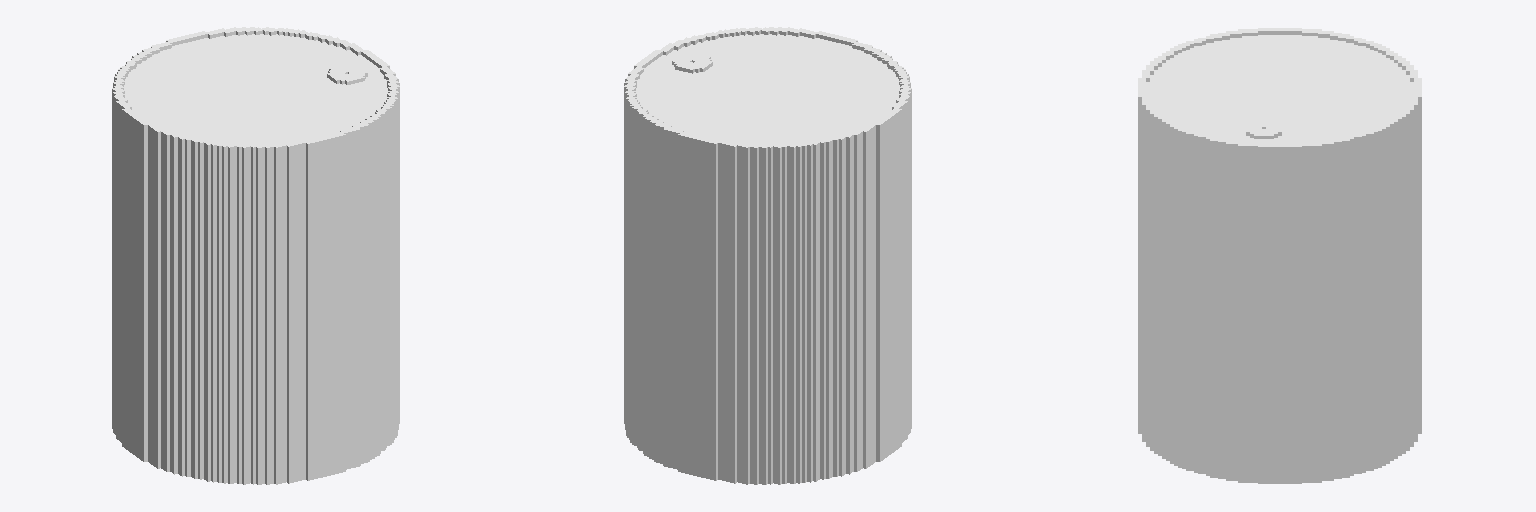
File: tanque.obj
3 renders of one model, left to right at view 1: azimuth 30°, elevation 25°; view 2: azimuth 150°, elevation 25°; view 3: azimuth 270°, elevation 25°, orthographic.
Visible parts, largest first — view 1: object 1; view 2: object 1; view 3: object 1.
Part boxes in pixels (x1,y1,x2,y2): object 1: (112, 27, 399, 484); object 1: (624, 27, 911, 484); object 1: (1138, 28, 1421, 483).
Size of the model in its own units: 7.1 by 9.3 by 7.1.